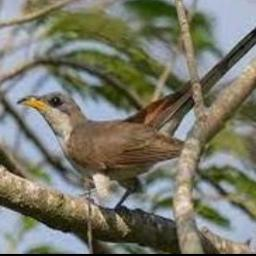Cuckoo: (15, 26, 256, 212)
